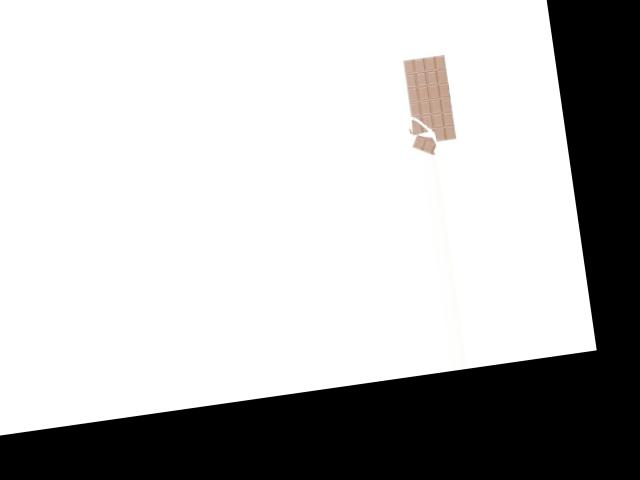chocolate: (389, 52, 465, 159)
